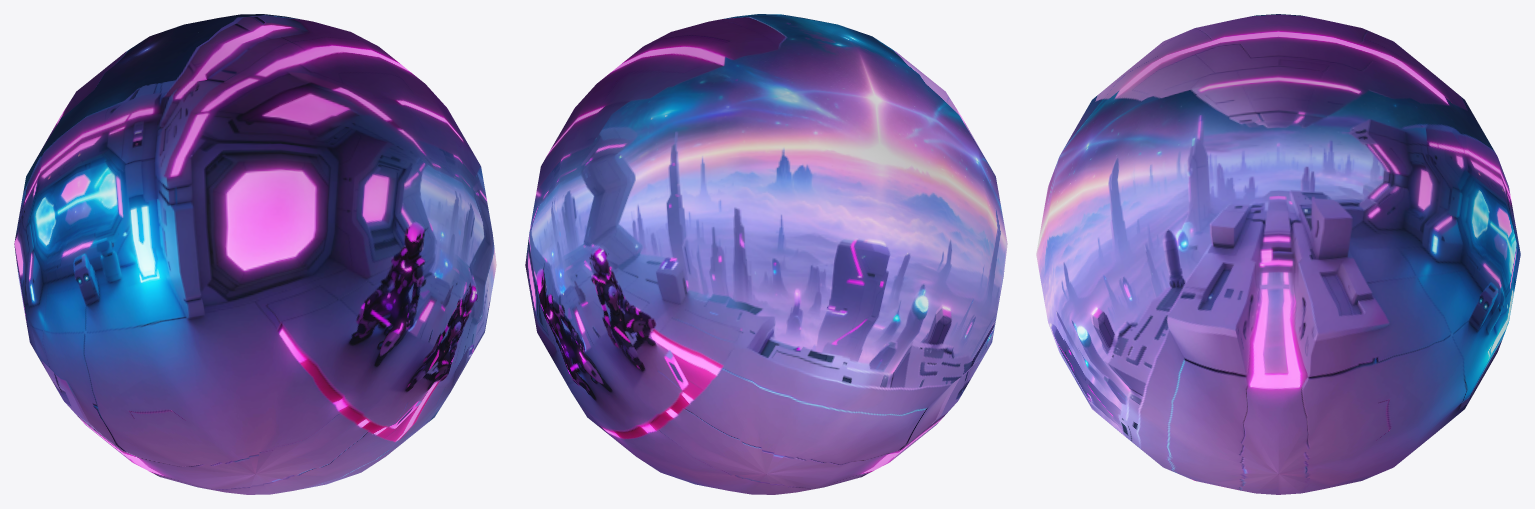
Rendered from skybox-v2.glb.
The picture shows the model from 3 angles, left to right: view 1: azimuth 30°, elevation 25°; view 2: azimuth 150°, elevation 25°; view 3: azimuth 270°, elevation 25°; orthographic projection.
Visible parts, largest first — view 1: Skybox; view 2: Skybox; view 3: Skybox.
Boxes of the visible parts, x1,y1,x2,y2 form: Skybox: [14, 14, 496, 494]; Skybox: [525, 14, 1007, 494]; Skybox: [1036, 14, 1520, 494].
Size of the model in its own units: 500 by 500 by 500.
1 material, 1 textured.
